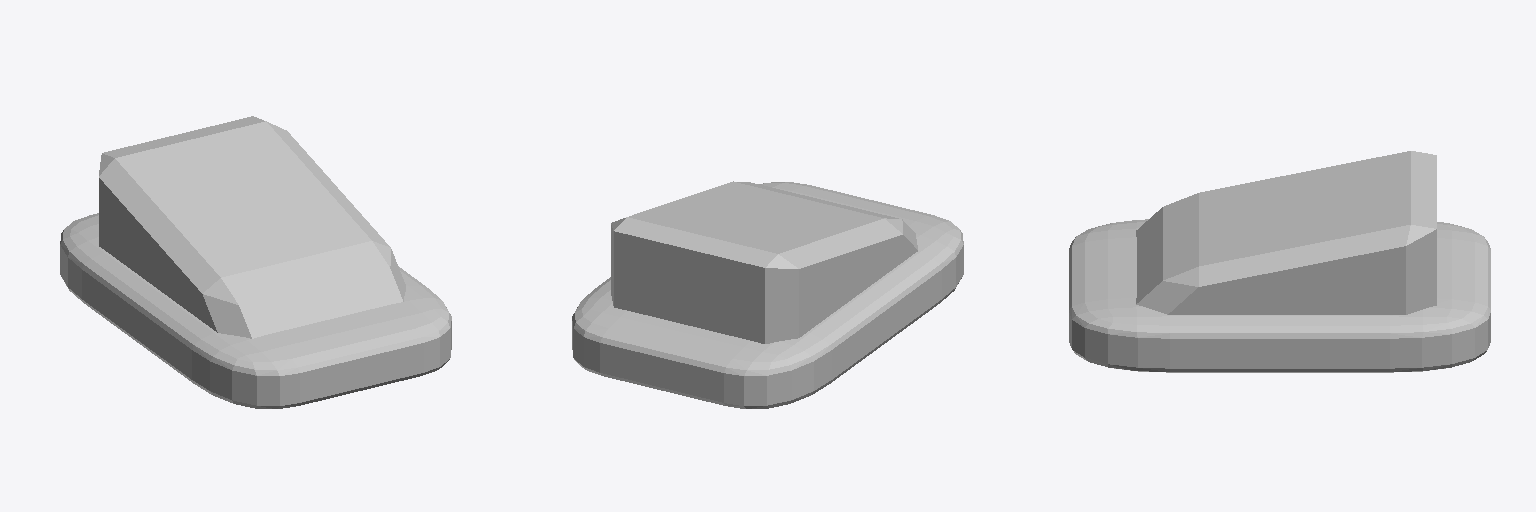
Rendered from bumperCar.obj.
3 views of the same model, side by side, from view 1: azimuth 30°, elevation 25°; view 2: azimuth 150°, elevation 25°; view 3: azimuth 270°, elevation 25° (orthographic).
Visible parts, largest first — view 1: Cube.001_Cube.005, Cube_Cube.004; view 2: Cube.001_Cube.005, Cube_Cube.004; view 3: Cube.001_Cube.005, Cube_Cube.004.
Part boxes in pixels (bbox=[...]): Cube.001_Cube.005: bbox=[99, 116, 405, 338]; Cube_Cube.004: bbox=[60, 213, 451, 408]; Cube.001_Cube.005: bbox=[611, 181, 917, 343]; Cube_Cube.004: bbox=[572, 182, 963, 408]; Cube.001_Cube.005: bbox=[1136, 151, 1436, 314]; Cube_Cube.004: bbox=[1069, 219, 1490, 372].
Bounding box in the file's own units: 0.975 × 0.5352 × 1.5.